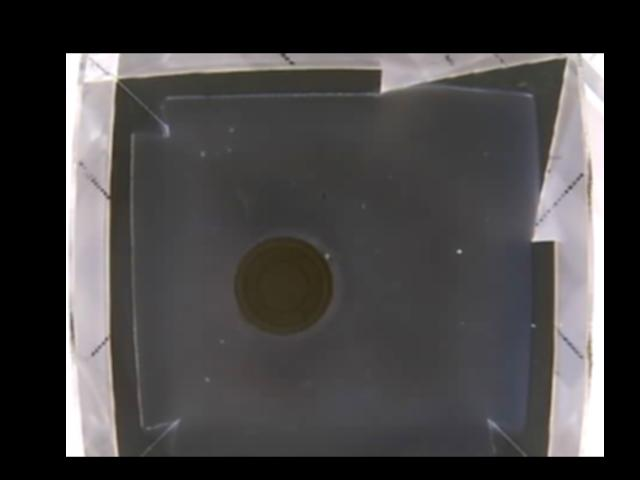Bottle: (234, 233, 334, 338)
